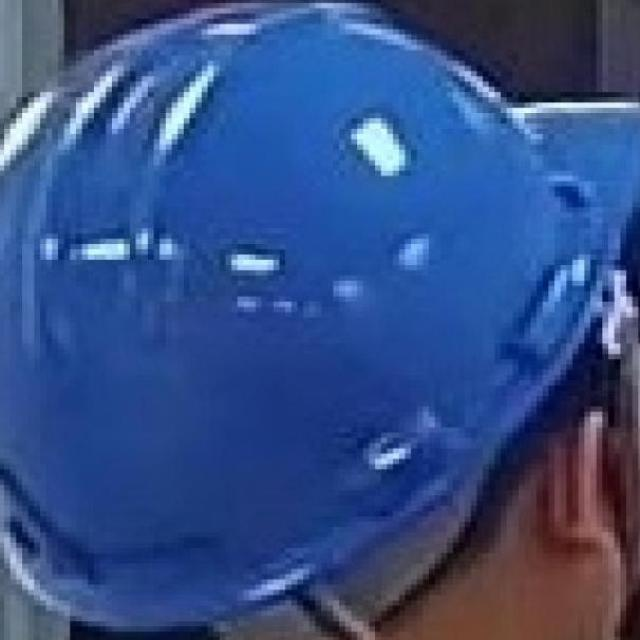blue helmet: (1, 1, 640, 635)
